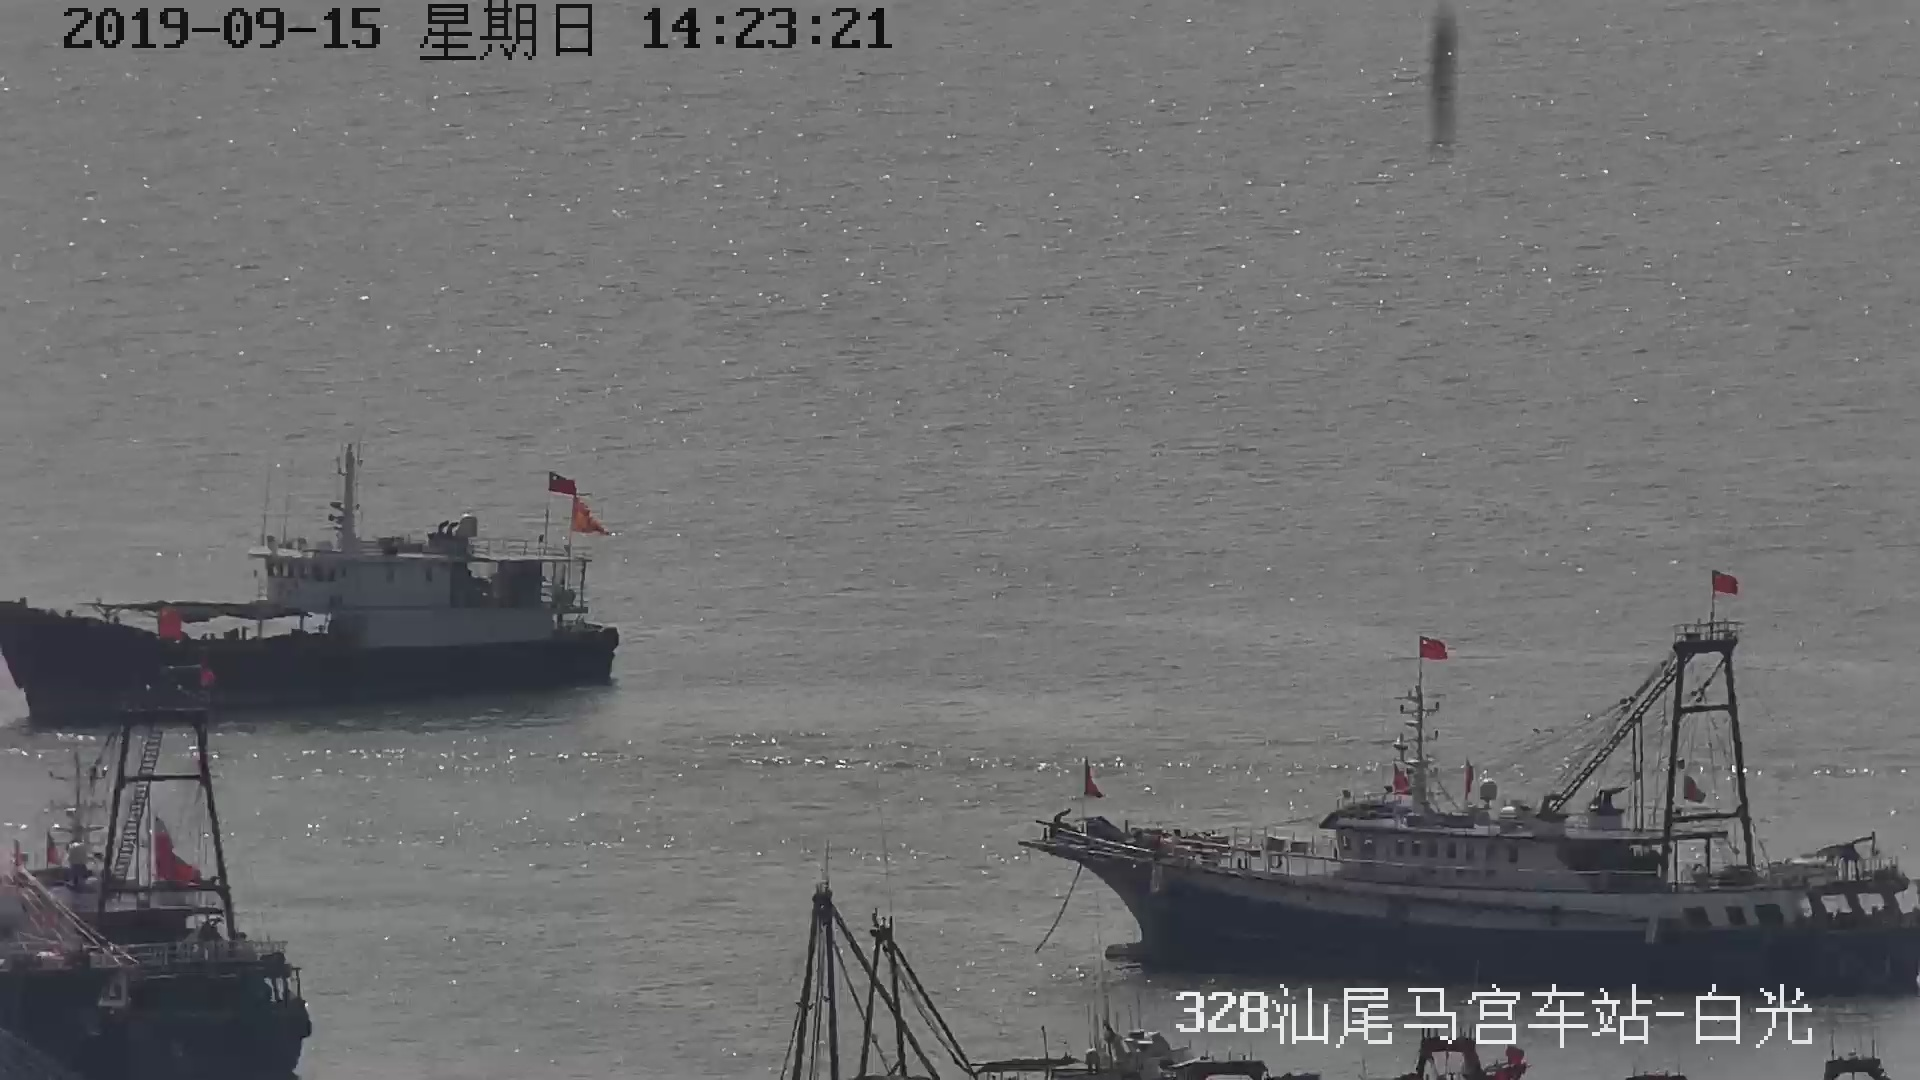ship: (1019, 574, 1920, 1000), (1, 438, 626, 727)
